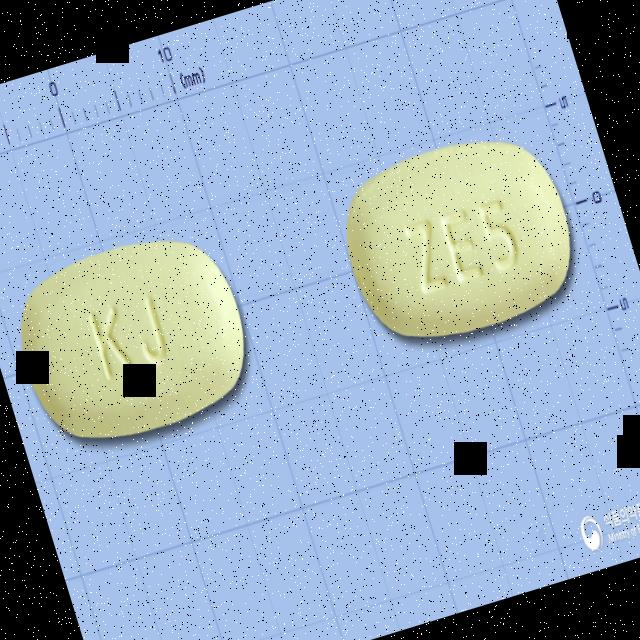Jecla: (0, 216, 266, 462), (325, 117, 592, 360)
